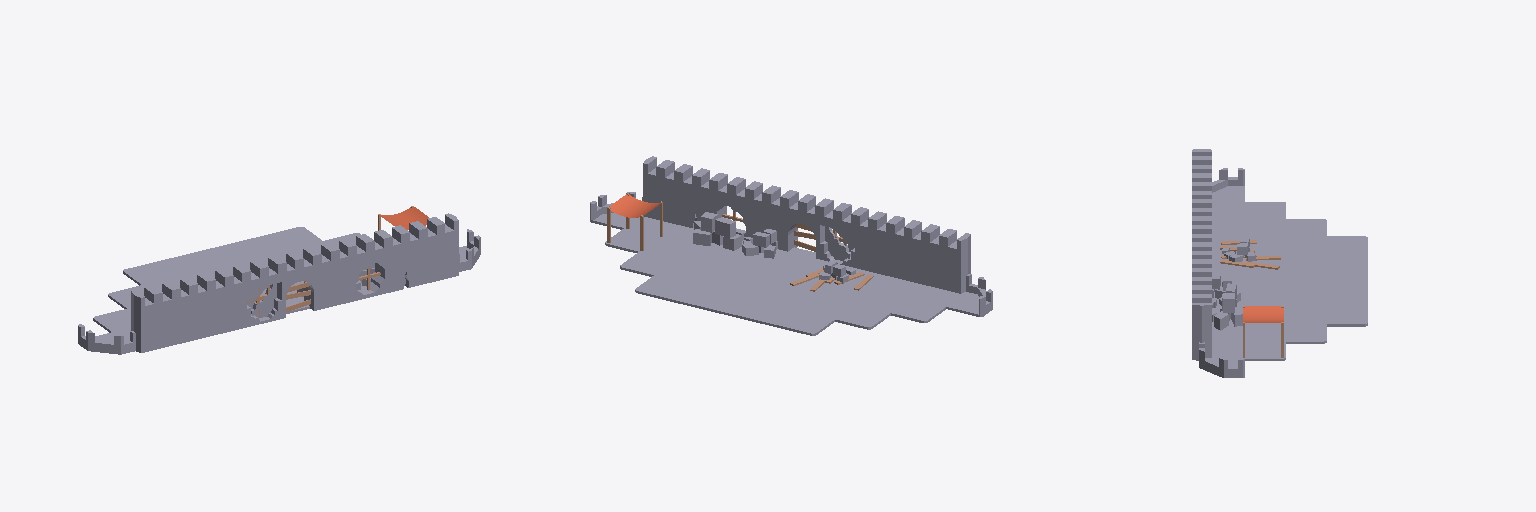
File: Wall.obj
The picture shows the model from 3 angles: view 1: azimuth 30°, elevation 25°; view 2: azimuth 150°, elevation 25°; view 3: azimuth 270°, elevation 25°; orthographic projection.
Bounding box in the file's own units: 11.12 × 1.56 × 4.3.